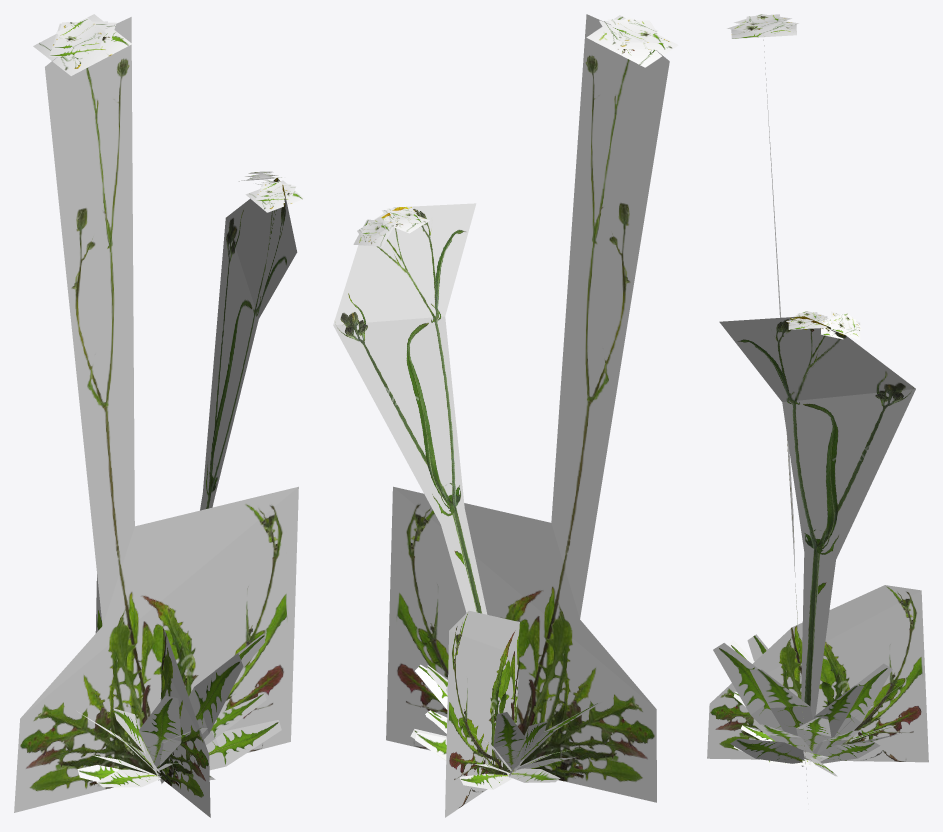
File: 05_crepis_capillaris_high_001.fbx
3 renders of one model, left to right at view 1: azimuth 30°, elevation 25°; view 2: azimuth 150°, elevation 25°; view 3: azimuth 270°, elevation 25°, orthographic. The views are drawn at different scales.
Visible parts, largest first — view 1: 05_crepis_capillaris_high.001; view 2: 05_crepis_capillaris_high.001; view 3: 05_crepis_capillaris_high.001.
Part boxes in pixels (x1,y1,x2,y2): 05_crepis_capillaris_high.001: [14, 14, 304, 817]; 05_crepis_capillaris_high.001: [333, 14, 678, 817]; 05_crepis_capillaris_high.001: [707, 14, 928, 798].
Size of the model in its own units: 0.1951 by 0.5128 by 0.1457.
